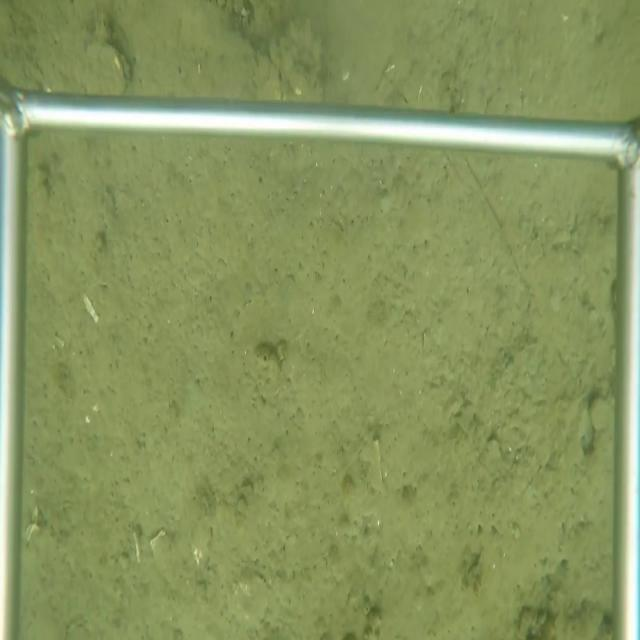Oyster-Closed: (75, 40, 135, 95)
